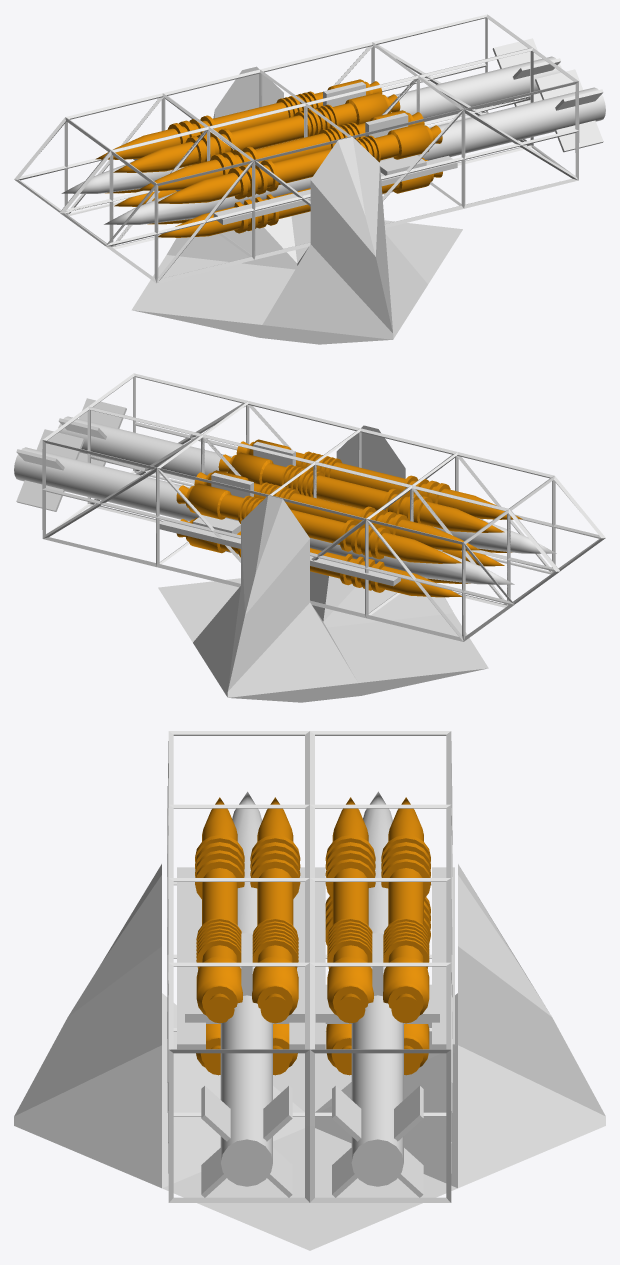
The model's file is launchernew.fbx.
The picture shows the model from 3 angles, top to bottom: view 1: azimuth 30°, elevation 25°; view 2: azimuth 150°, elevation 25°; view 3: azimuth 270°, elevation 25°; orthographic projection. The views are drawn at different scales.
Visible parts, largest first — view 1: base, lattice.001, SAM.002, booster1.001, booster1, SAM.003, booster4, booster4.001, booster2, fins.010, rail.001, fins.002 (+3 smaller); view 2: base, lattice.001, SAM.003, booster4, booster4.001, SAM.002, booster1.001, booster1, booster3.001, rail.001, fins.001, fins.011 (+3 smaller); view 3: base, lattice.001, SAM.002, SAM.003, booster4, booster1.001, booster4.001, booster1, rail.001, rail, fins.001, fins.011 (+10 smaller).
Boxes of the visible parts, box(x1,y1,x2,y2) form: base: box(131, 66, 462, 344); lattice.001: box(14, 14, 579, 283); SAM.002: box(104, 87, 605, 224); booster1.001: box(113, 92, 400, 172); booster1: box(158, 123, 442, 203); SAM.003: box(61, 56, 561, 193); booster4: box(138, 110, 424, 190); booster4.001: box(95, 79, 382, 159); booster2: box(158, 158, 442, 237); fins.010: box(535, 69, 603, 152); rail.001: box(133, 155, 457, 224); fins.002: box(492, 38, 542, 106); base: box(158, 425, 488, 702); lattice.001: box(42, 373, 605, 641); SAM.003: box(14, 447, 514, 584); booster4: box(218, 452, 504, 532); booster4.001: box(176, 483, 461, 563); SAM.002: box(58, 416, 556, 553); booster1.001: box(194, 470, 480, 550); booster1: box(236, 439, 522, 519); booster3.001: box(176, 517, 461, 597); rail.001: box(159, 519, 483, 586); fins.001: box(16, 429, 84, 511); fins.011: box(77, 398, 126, 466); base: box(14, 864, 605, 1250); lattice.001: box(167, 731, 452, 1202); SAM.002: box(220, 791, 272, 1186); SAM.003: box(351, 791, 403, 1186); booster4: box(250, 797, 300, 1023); booster1.001: box(325, 797, 375, 1023); booster4.001: box(381, 797, 430, 1023); booster1: box(195, 797, 244, 1023); rail.001: box(177, 867, 454, 1052); rail: box(289, 867, 325, 1049); fins.001: box(332, 1085, 423, 1197); fins.011: box(201, 1086, 292, 1197).
Size of the model in its own units: 441 by 183 by 283.
